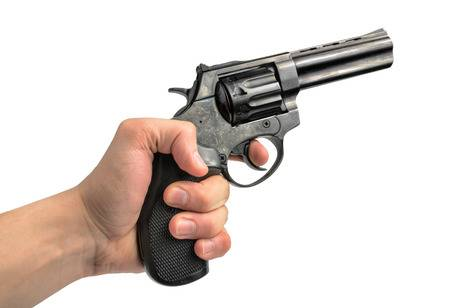pistol: (94, 10, 409, 308)
